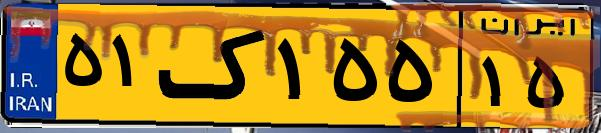1: (270, 28, 330, 110), (475, 38, 525, 113), (110, 28, 158, 98)
5: (385, 28, 445, 110), (330, 28, 385, 110), (57, 26, 110, 100), (525, 38, 570, 115)
ک: (158, 12, 270, 120)
